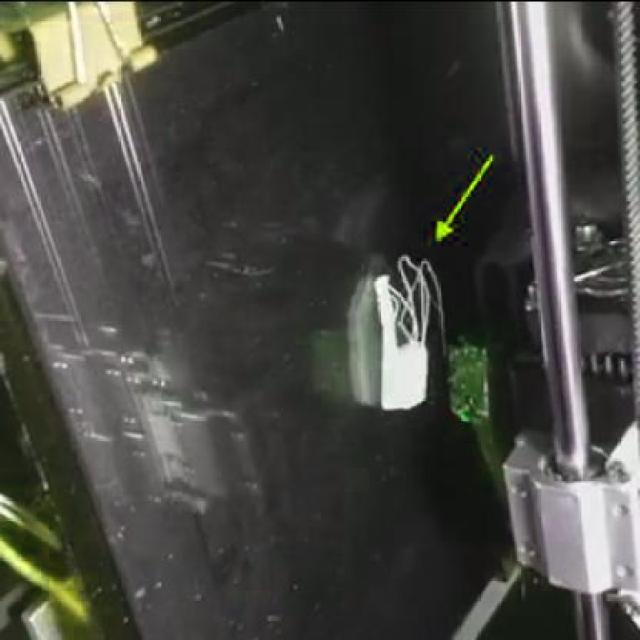spaghetti: (389, 254, 448, 349)
